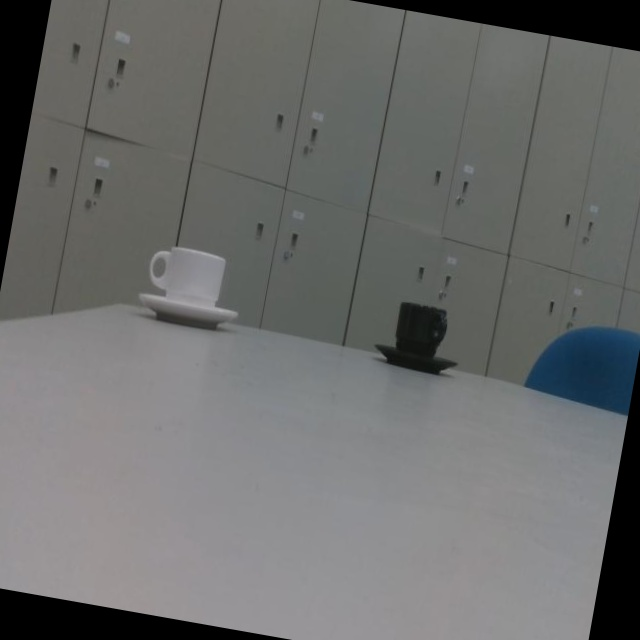black: (373, 296, 462, 378)
white: (140, 244, 244, 331)
